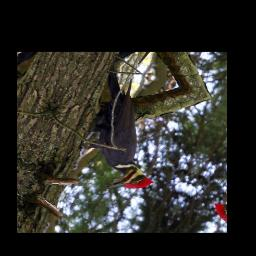Woodpecker: (59, 63, 197, 201)
